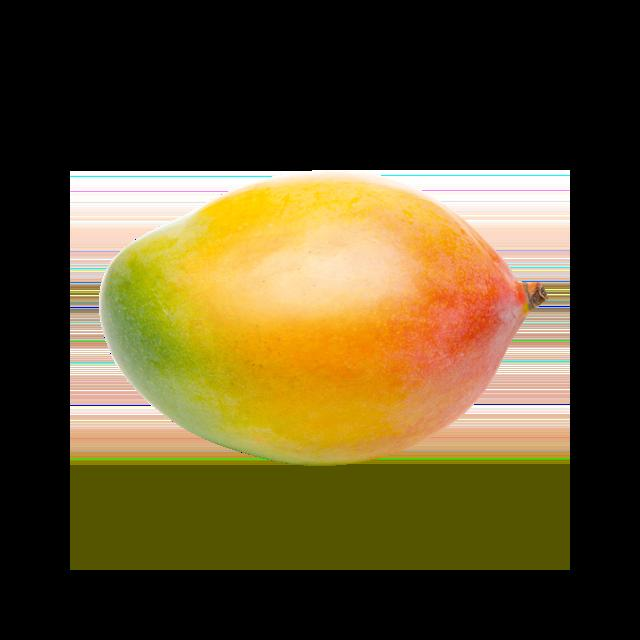mango: (89, 146, 560, 482)
